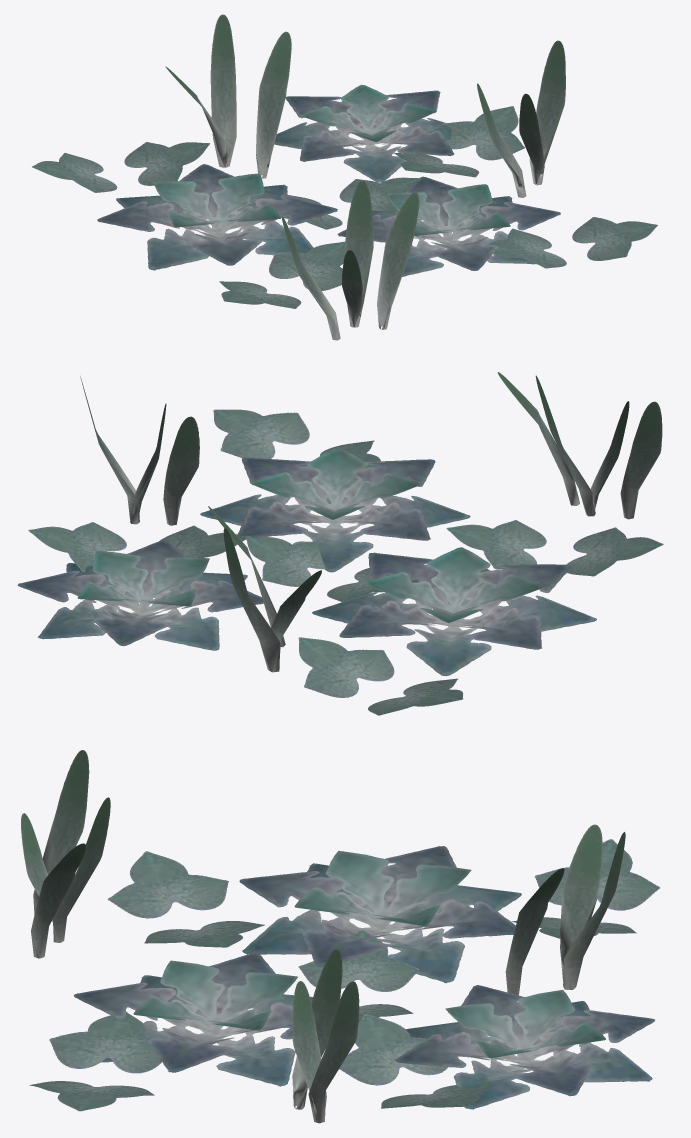
File: weed-winter.glb
3 views of the same model, one above another, from view 1: azimuth 30°, elevation 25°; view 2: azimuth 150°, elevation 25°; view 3: azimuth 270°, elevation 25° (orthographic). The views are drawn at different scales.
Size of the model in its own units: 10.26 by 2.81 by 10.07.
Materials: 3 (3 with a texture image).
